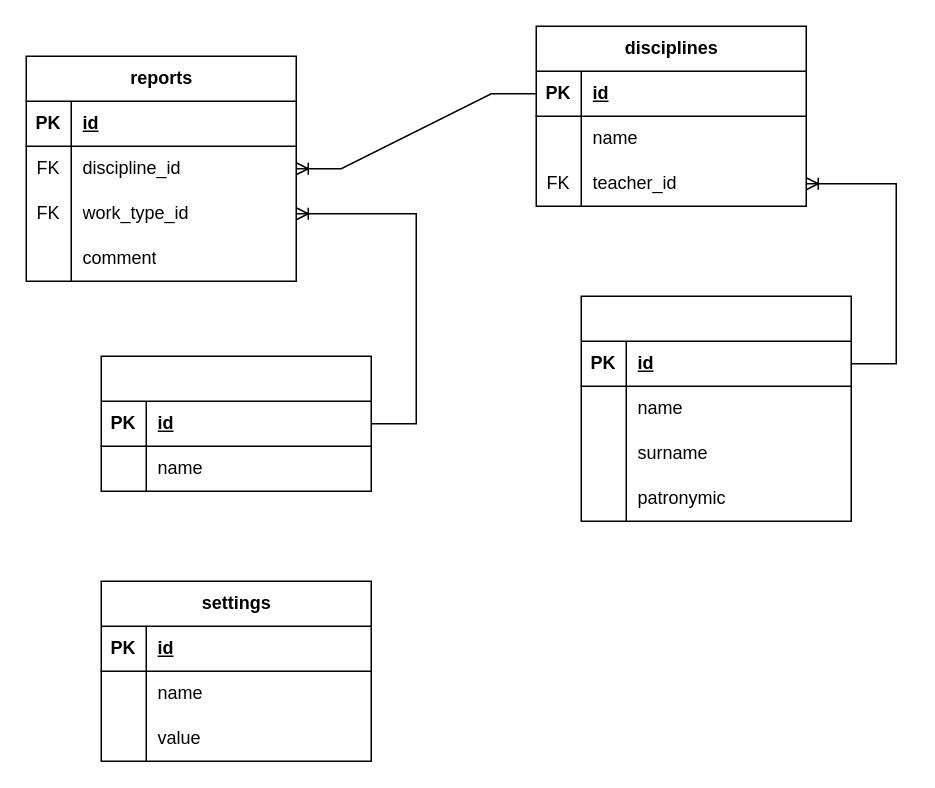
Some shapes in this 935 by 788 pixel diagram are drawn without their labels. The shapes that lost their labels are listed below. From the top down, each one's box as (x1, y1, x2, y2) in pixels, then its label:
(100, 355, 371, 491): work_types
(580, 295, 851, 521): teachers
